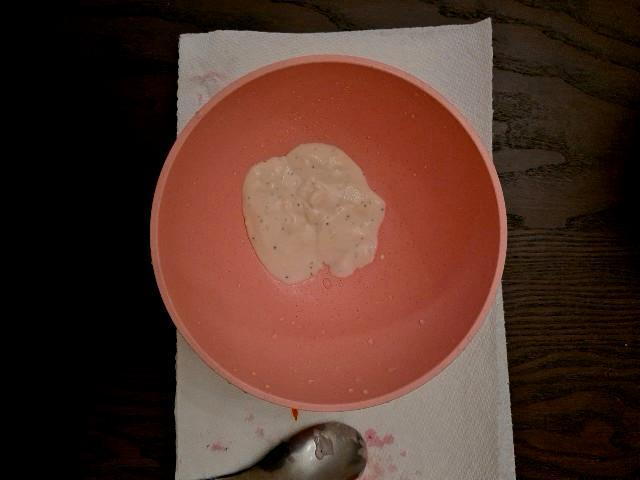kichen waste: (243, 143, 385, 283)
